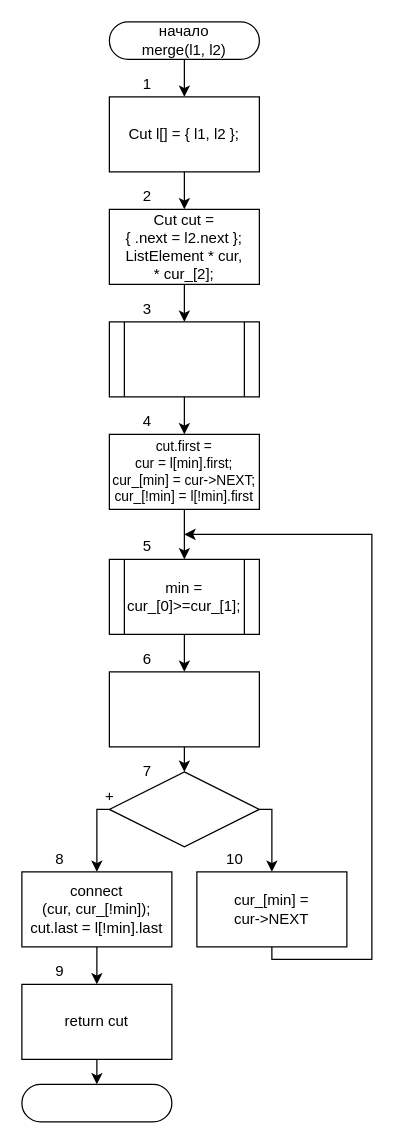
The diagram is 404 pixels wide and 1144 high, and some of its shapes have lost their labels. The shapes that lost their labels are listed below. From the top down, each one's box as (x1, y1, x2, y2) in pixels, then its label:
(108, 321, 259, 397): bool min = l1.first >= l2.first;
(108, 671, 259, 747): connect (cur, cur_[min]); cur = cur_[min];
(108, 771, 259, 847): cur == l[min].last
(21, 1083, 172, 1122): конец
